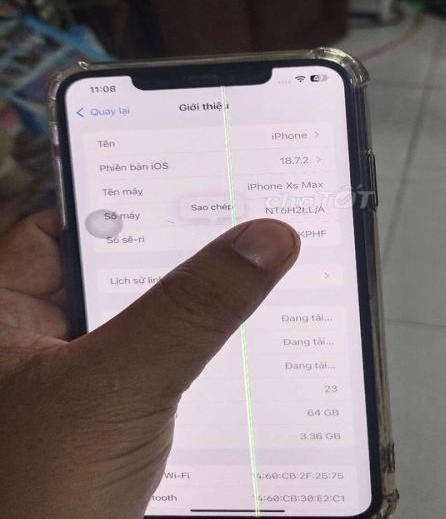scratch: (341, 73, 362, 94)
screen_defect: (233, 314, 267, 519), (216, 83, 243, 227)
